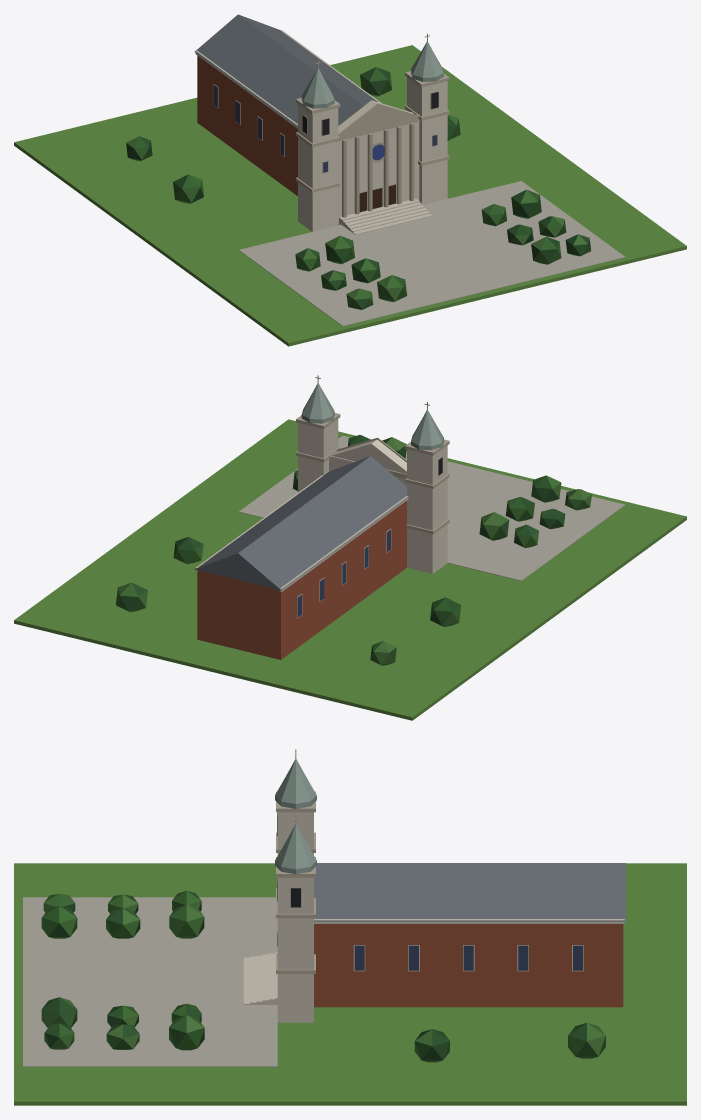
The model's file is basilica_nazare.glb.
3 views of the same model, one above another, from view 1: azimuth 30°, elevation 25°; view 2: azimuth 150°, elevation 25°; view 3: azimuth 270°, elevation 25° (orthographic). The views are drawn at different scales.
Visible parts, largest first — view 1: basilica_nazare; view 2: basilica_nazare; view 3: basilica_nazare.
Boxes of the visible parts, x1=… form: basilica_nazare: x1=14, y1=14, x2=686, y2=346; basilica_nazare: x1=14, y1=375, x2=686, y2=720; basilica_nazare: x1=14, y1=749, x2=686, y2=1105.
Bounding box in the file's own units: 124 × 49.74 × 148.
